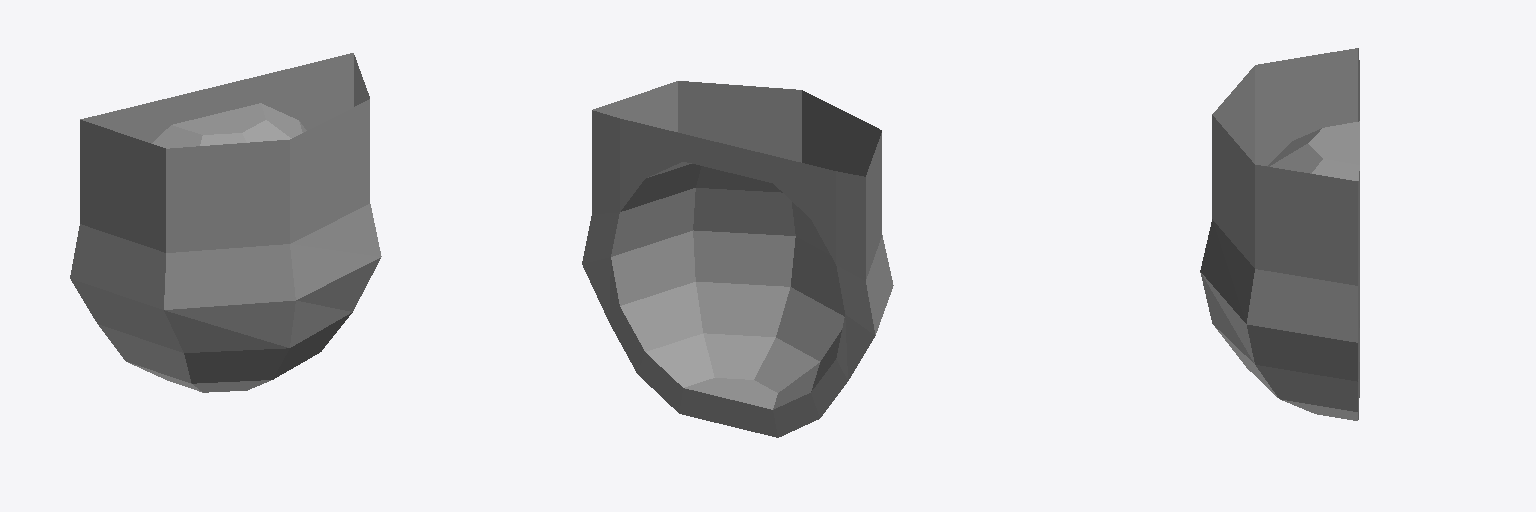
The model's file is build00.obj.
3 renders of one model, left to right at view 1: azimuth 30°, elevation 25°; view 2: azimuth 150°, elevation 25°; view 3: azimuth 270°, elevation 25°, orthographic.
Parts seen in each view (by area): view 1: Sphere; view 2: Sphere; view 3: Sphere.
Boxes of the visible parts, x1=… form: Sphere: x1=70, y1=53, x2=381, y2=392; Sphere: x1=582, y1=81, x2=893, y2=437; Sphere: x1=1200, y1=48, x2=1359, y2=420.
Size of the model in its own units: 201 by 184 by 94.38.